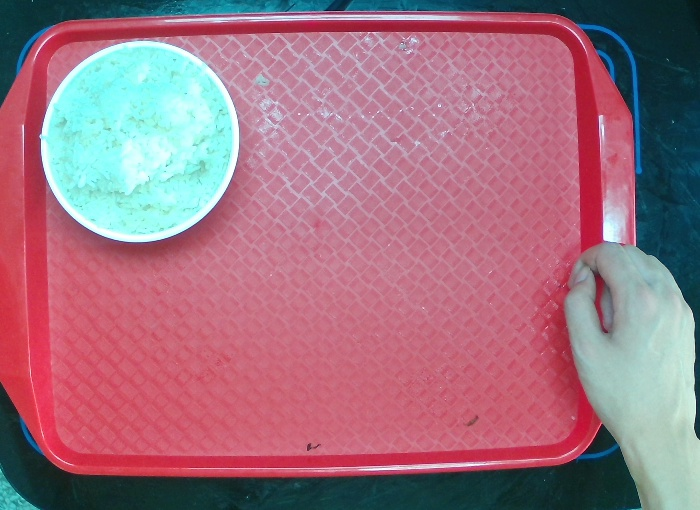YKMZ-Fan_Wan: (31, 35, 251, 249)
